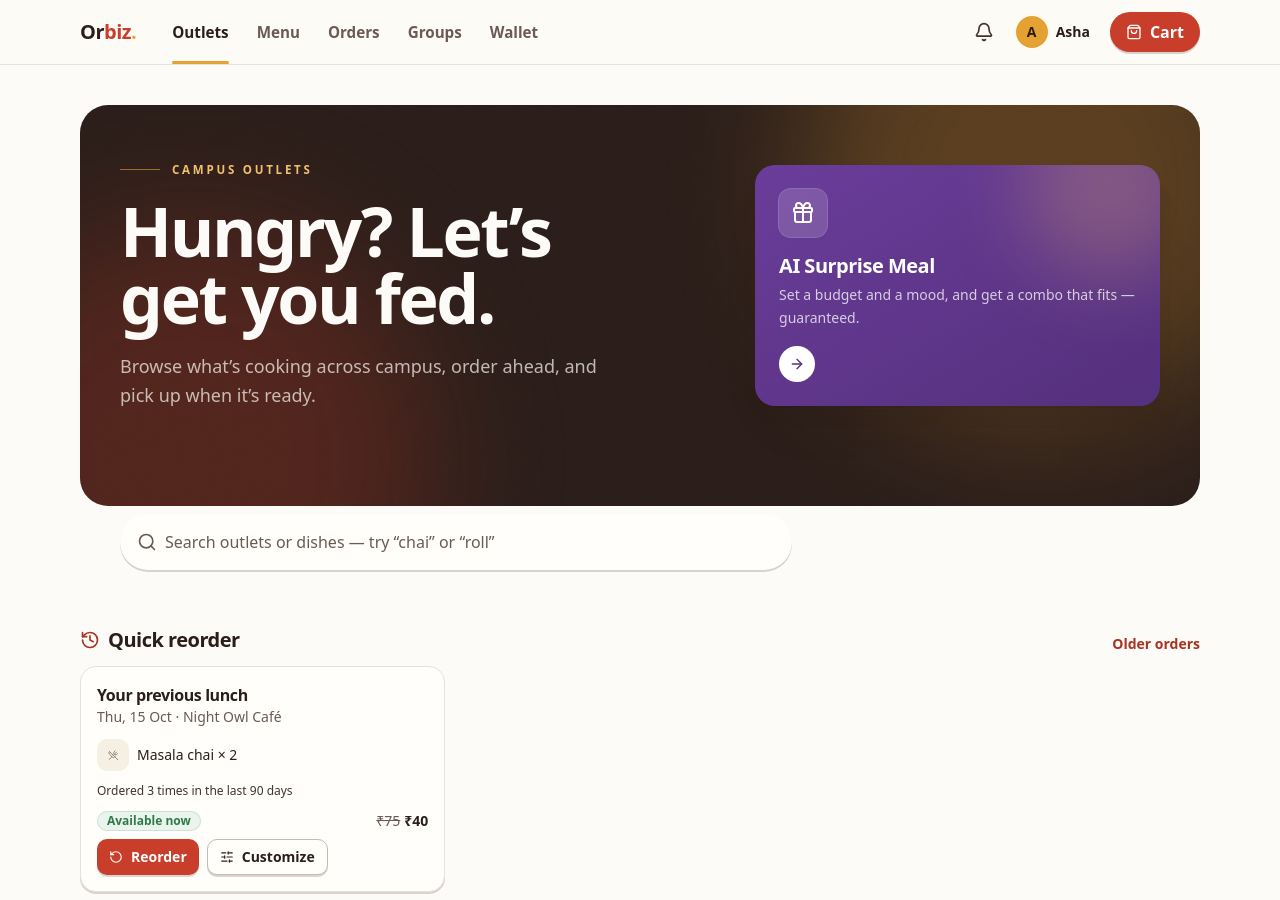
Test: Quick Reorder on the home page › explains a tray from another outlet and replaces it only when the student agrees
The image size is (1280, 900).
Step 1. Click the button with aria-label "Reorder your previous" → (148, 857), box [97,839,199,875]
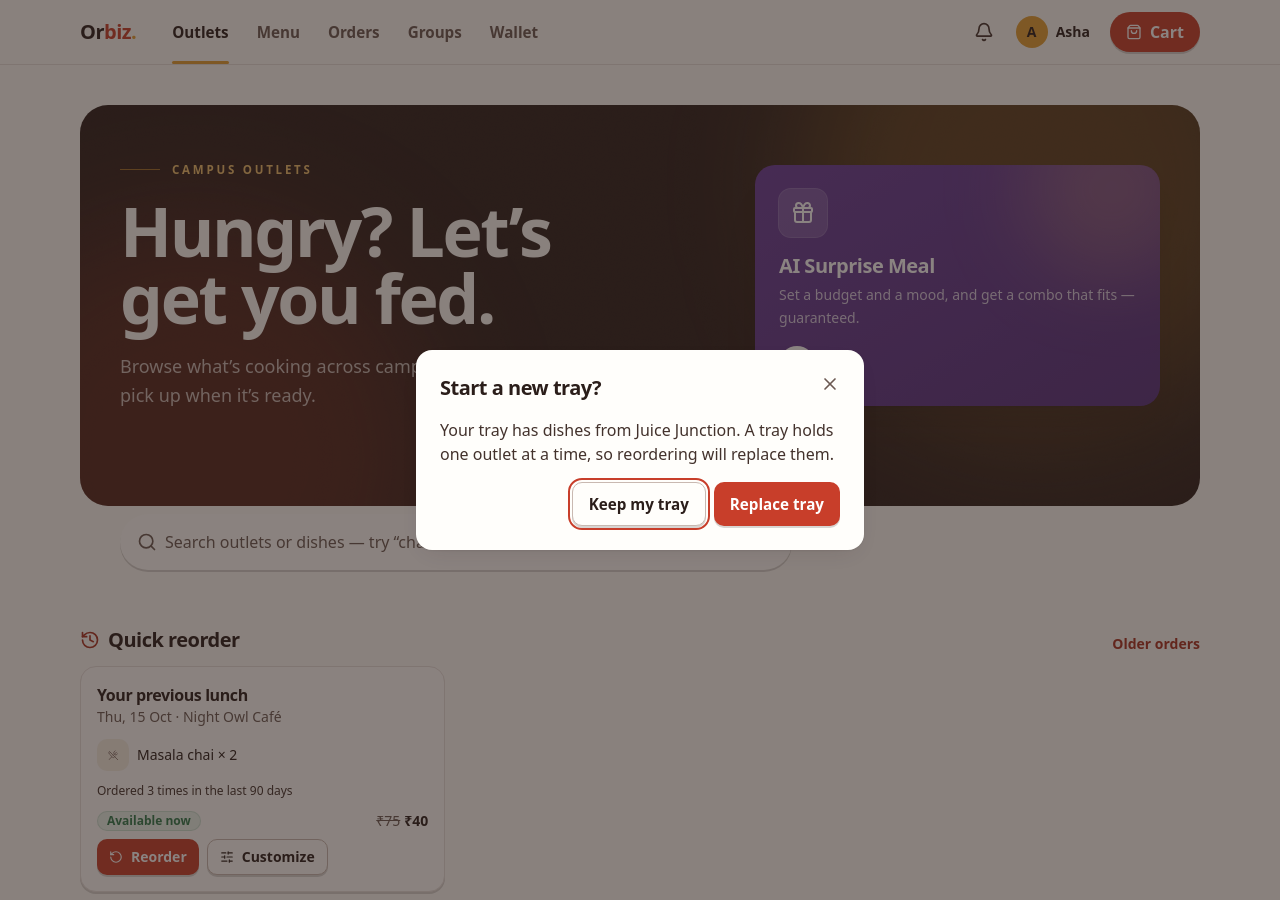
expect the text "Your tray has dishes from Juice Junction" is shown: met, box [440,419,834,465]
Step 2. Click the button "Replace tray" → (777, 504), box [714,482,840,526]
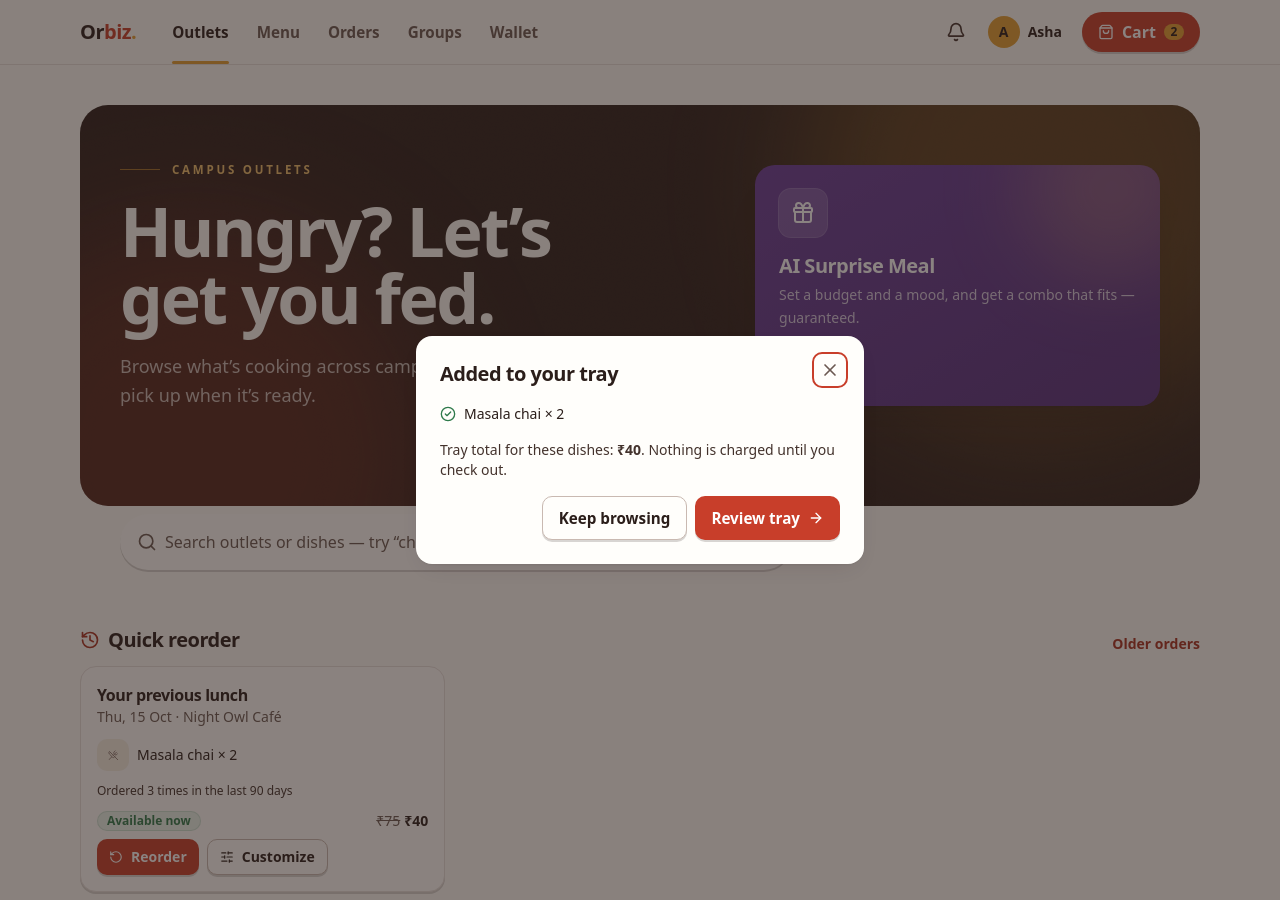
expect the dialog "Added to your tray" is shown: met, box [416,336,864,564]
